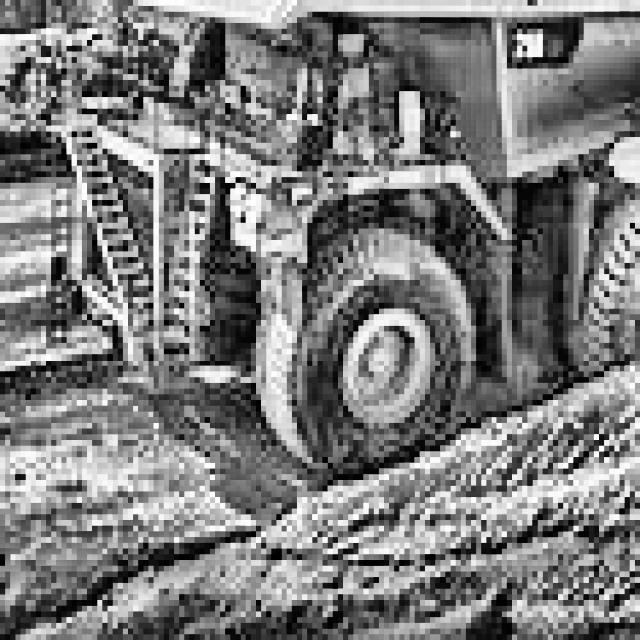dump_truck: (46, 0, 640, 417)
